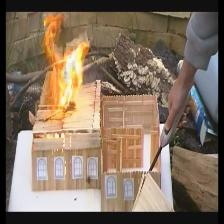fire: (40, 13, 91, 124)
